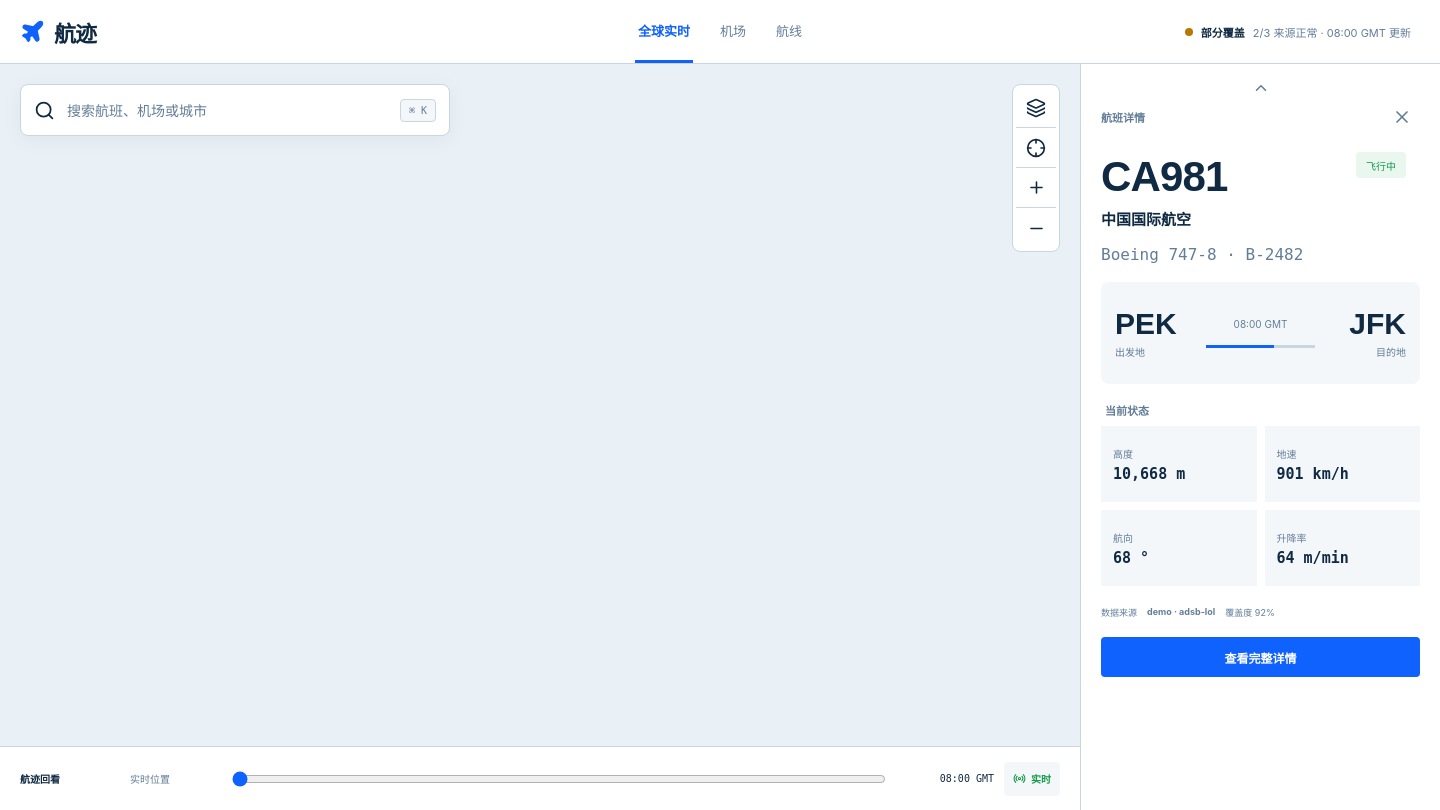
Test: AppShell › turns weather radar intent off after a non-fatal weather failure
Step 1. Click the button named "打开图层与筛选" → coordinates (1036, 108), box [1016,88,1056,128]
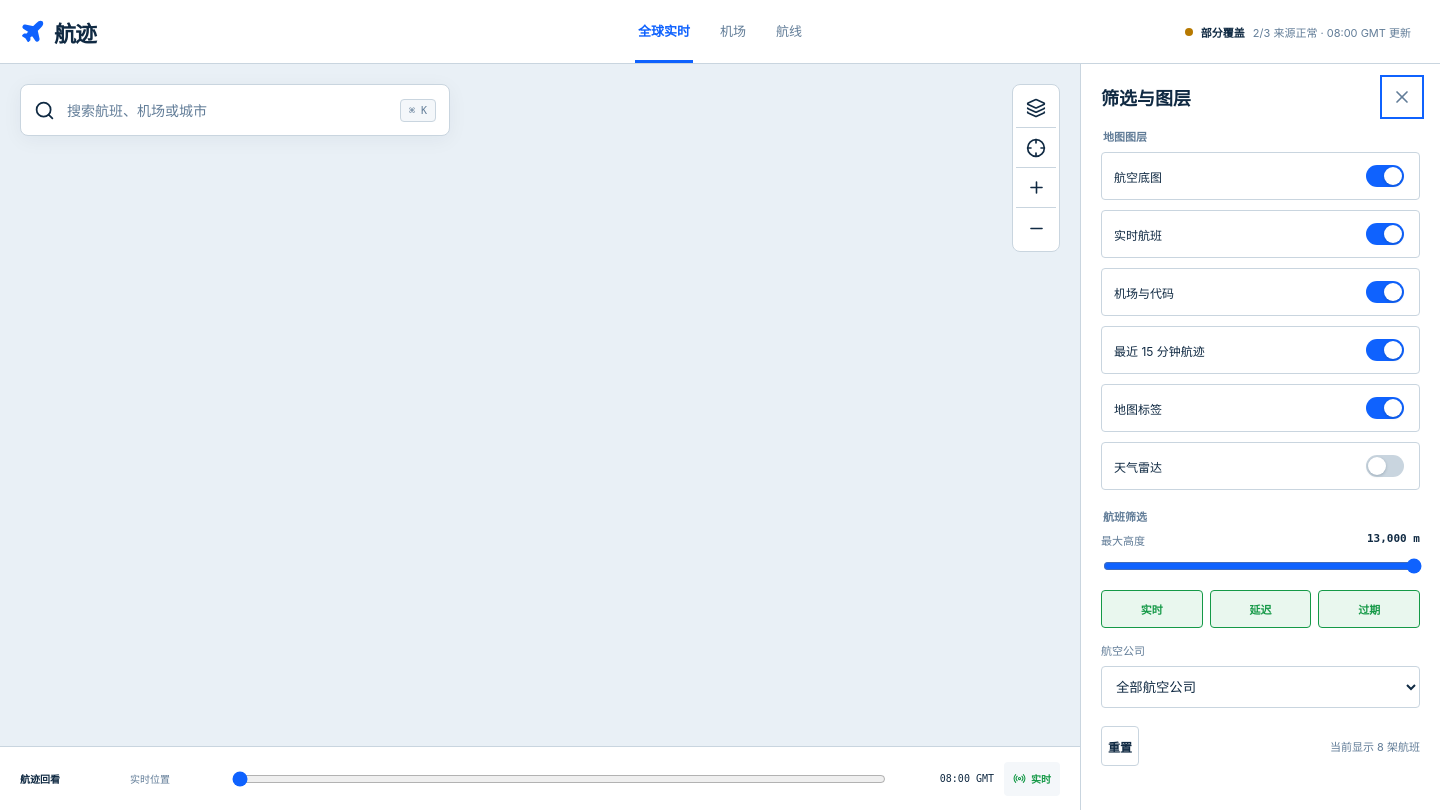
Step 2. Click the checkbox labelled "天气雷达" → coordinates (1385, 466), box [1366,455,1404,477]
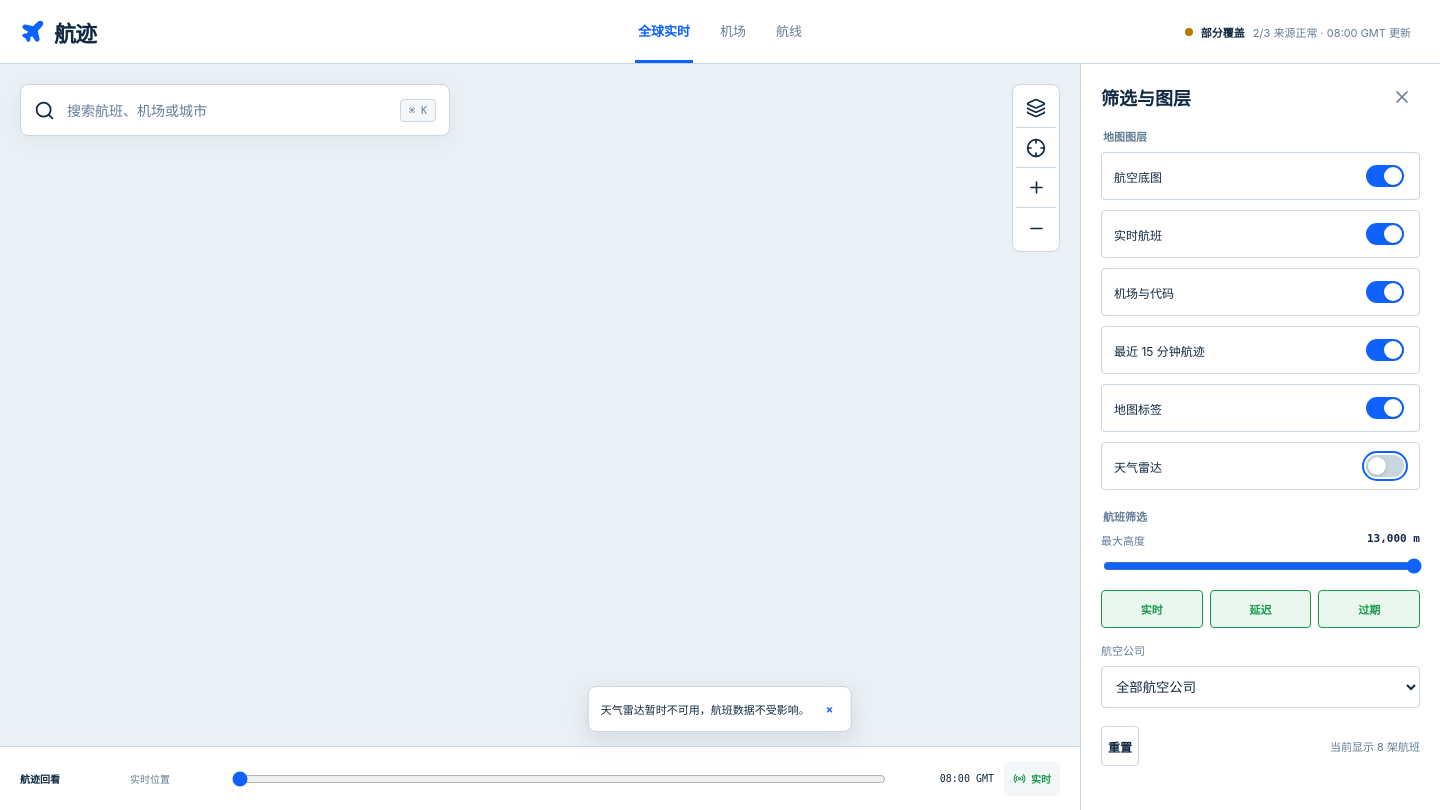
Check: the text "天气雷达暂时不可用，航班数据不受影响。" is shown, box [601,701,810,717]
